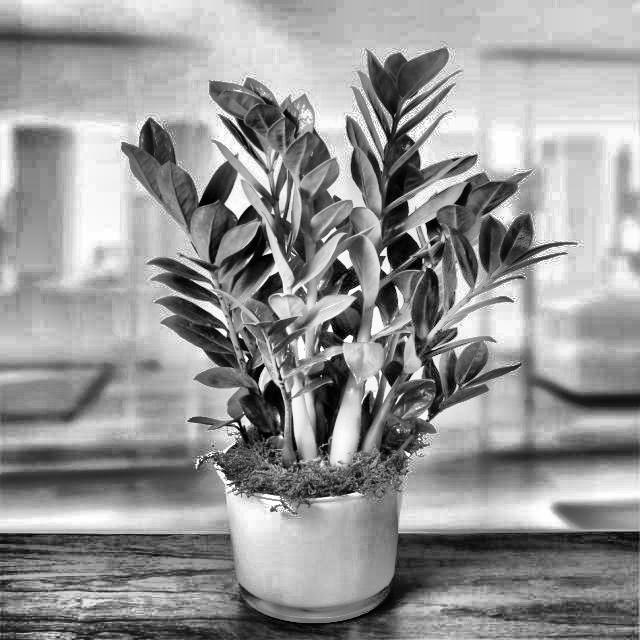plants: (107, 39, 575, 616)
